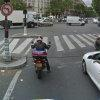Crosswalk: (13, 29, 100, 59)
